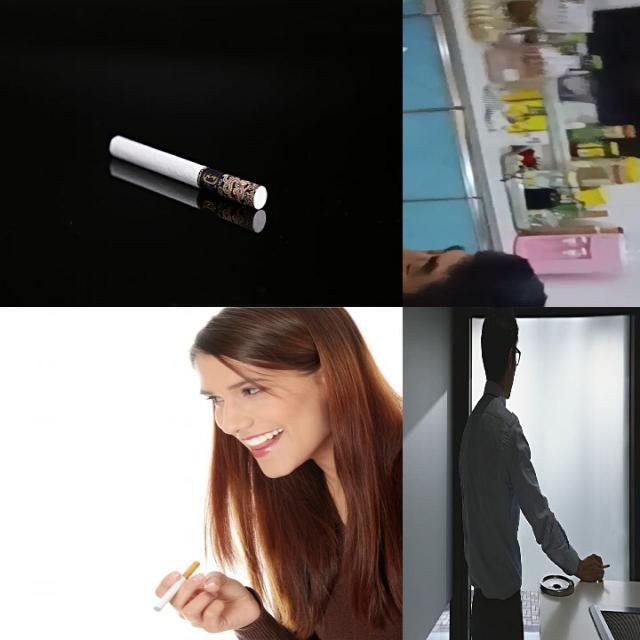smoking: (108, 134, 268, 210), (109, 158, 267, 234), (149, 558, 203, 614), (600, 564, 610, 570)
